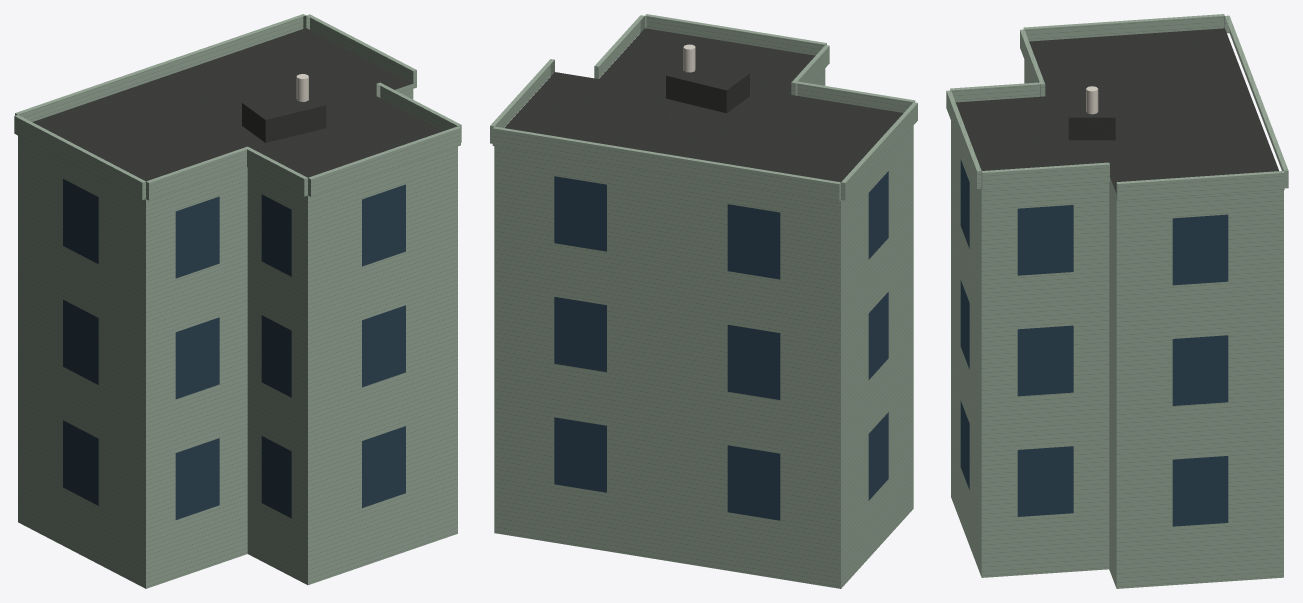
3 views of the same model, side by side, from view 1: azimuth 30°, elevation 25°; view 2: azimuth 150°, elevation 25°; view 3: azimuth 270°, elevation 25° (orthographic).
Visible parts, largest first — view 1: Footprint 0 / surface 2, Inset glazing, Footprint 0 / surface 1, Facade bay volumes, Inferred rooftop service enclosure / surface 5, Inferred rooftop service enclosure / surface 3; view 2: Footprint 0 / surface 2, Footprint 0 / surface 1, Inset glazing, Facade bay volumes, Inferred rooftop service enclosure / surface 6, Inferred rooftop service enclosure / surface 3, Inferred rooftop service enclosure / surface 2; view 3: Footprint 0 / surface 2, Footprint 0 / surface 1, Inset glazing, Facade bay volumes, Inferred rooftop service enclosure / surface 1, Inferred rooftop service enclosure / surface 3.
Part boxes in pixels (x1,y1,x2,y2): Footprint 0 / surface 2: (18, 84, 457, 588); Inset glazing: (63, 179, 405, 519); Footprint 0 / surface 1: (32, 28, 443, 181); Facade bay volumes: (14, 14, 461, 200); Inferred rooftop service enclosure / surface 5: (265, 105, 326, 142); Inferred rooftop service enclosure / surface 3: (242, 89, 325, 119); Footprint 0 / surface 2: (494, 68, 913, 588); Footprint 0 / surface 1: (504, 28, 903, 182); Inset glazing: (554, 171, 888, 520); Facade bay volumes: (490, 14, 917, 201); Inferred rooftop service enclosure / surface 6: (666, 75, 726, 113); Inferred rooftop service enclosure / surface 3: (666, 60, 749, 90); Inferred rooftop service enclosure / surface 2: (726, 73, 749, 112); Footprint 0 / surface 2: (951, 60, 1283, 588); Footprint 0 / surface 1: (955, 28, 1278, 193); Inset glazing: (960, 159, 1228, 526); Facade bay volumes: (946, 14, 1288, 201); Inferred rooftop service enclosure / surface 1: (1068, 117, 1115, 140); Inferred rooftop service enclosure / surface 3: (1068, 88, 1115, 117).
Size of the model in its own units: 10.33 by 12.47 by 8.78.
